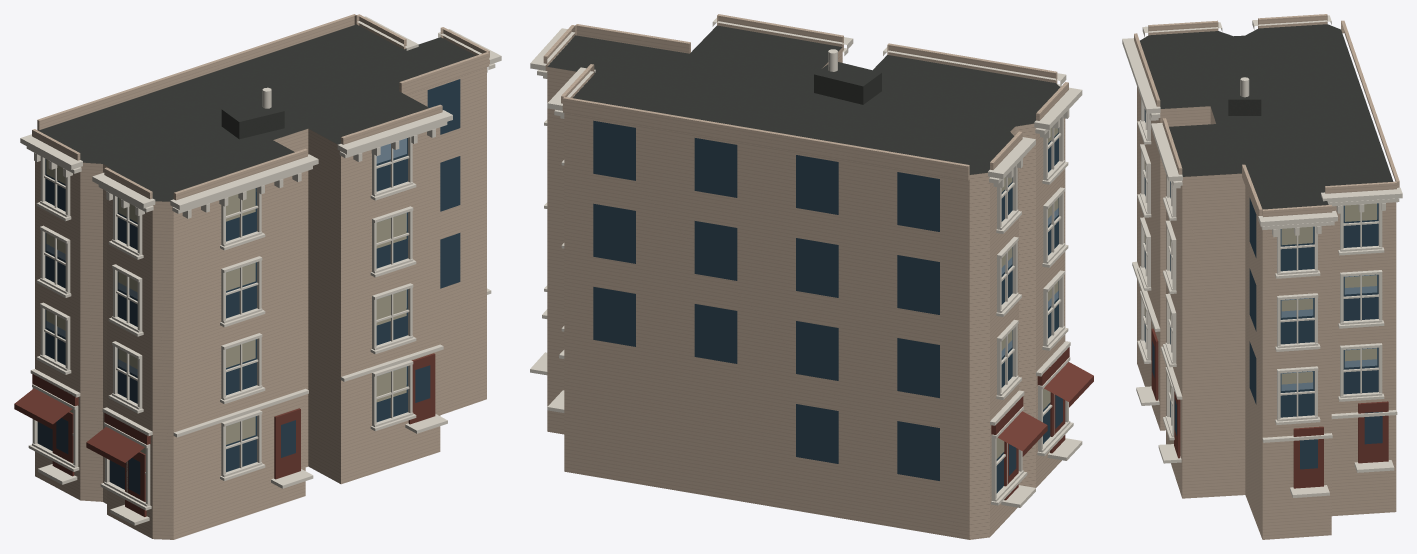
The picture shows the model from 3 angles, left to right: view 1: azimuth 30°, elevation 25°; view 2: azimuth 150°, elevation 25°; view 3: azimuth 270°, elevation 25°; orthographic projection. The views are drawn at different scales.
Parts seen in each view (by area): view 1: Footprint 0 / surface 2, Footprint 0 / surface 1, Cornices and window frames, Inset glazing, Facade bay volumes, Storefronts and doors, Interior blind variation, Sky reflection panels, Inferred rooftop service enclosure / surface 5, Inferred rooftop service enclosure / surface 3; view 2: Footprint 0 / surface 2, Footprint 0 / surface 1, Inset glazing, Cornices and window frames, Facade bay volumes, Storefronts and doors, Inferred rooftop service enclosure / surface 6, Inferred rooftop service enclosure / surface 3, Interior blind variation; view 3: Footprint 0 / surface 2, Footprint 0 / surface 1, Cornices and window frames, Inset glazing, Facade bay volumes, Storefronts and doors, Interior blind variation, Sky reflection panels, Inferred rooftop service enclosure / surface 3, Inferred rooftop service enclosure / surface 1.
Part boxes in pixels (x1,y1,x2,y2): Footprint 0 / surface 2: [35, 67, 486, 539]; Footprint 0 / surface 1: [39, 24, 475, 201]; Cornices and window frames: [20, 16, 501, 525]; Inset glazing: [37, 79, 460, 494]; Facade bay volumes: [32, 14, 489, 200]; Storefronts and doors: [14, 353, 435, 516]; Interior blind variation: [46, 159, 406, 453]; Sky reflection panels: [46, 138, 406, 384]; Inferred rooftop service enclosure / surface 5: [239, 111, 284, 139]; Inferred rooftop service enclosure / surface 3: [222, 99, 283, 121]; Footprint 0 / surface 2: [547, 47, 1065, 539]; Footprint 0 / surface 1: [547, 25, 1060, 174]; Inset glazing: [593, 120, 1062, 493]; Cornices and window frames: [530, 18, 1082, 507]; Facade bay volumes: [543, 14, 1068, 180]; Storefronts and doors: [991, 347, 1093, 500]; Inferred rooftop service enclosure / surface 6: [814, 74, 863, 104]; Inferred rooftop service enclosure / surface 3: [814, 62, 881, 86]; Interior blind variation: [996, 128, 1058, 458]; Footprint 0 / surface 2: [1137, 87, 1396, 539]; Footprint 0 / surface 1: [1140, 24, 1393, 209]; Cornices and window frames: [1122, 15, 1402, 497]; Inset glazing: [1144, 109, 1382, 469]; Facade bay volumes: [1134, 14, 1399, 218]; Storefronts and doors: [1151, 328, 1388, 488]; Interior blind variation: [1144, 161, 1376, 394]; Sky reflection panels: [1281, 203, 1377, 390]; Inferred rooftop service enclosure / surface 3: [1228, 78, 1261, 99]; Inferred rooftop service enclosure / surface 1: [1228, 99, 1261, 115].
Bounding box in the file's own units: 18.11 × 14.09 × 10.11.
